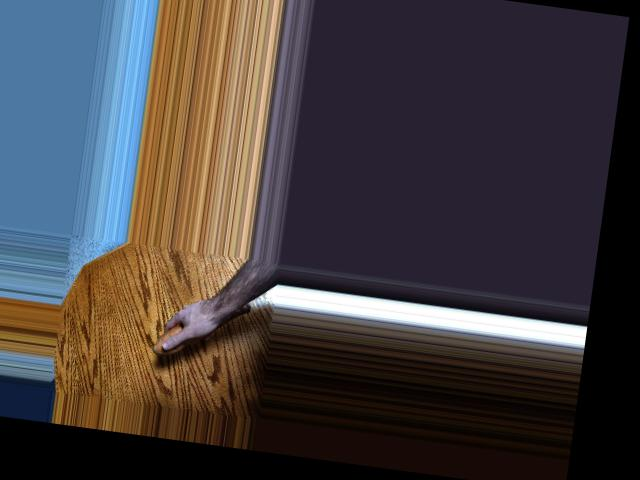sweet_potato: (150, 293, 252, 368)
